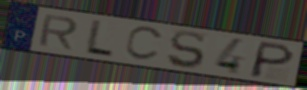4: (210, 36, 246, 76)
C: (123, 26, 167, 63)
L: (82, 18, 116, 59)
P: (246, 40, 297, 80)
R: (36, 13, 81, 52)
S: (165, 30, 207, 70)
